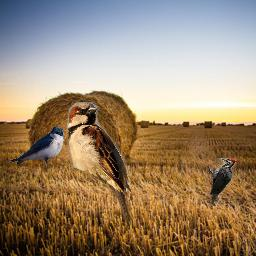Swallow: (66, 102, 131, 228), (9, 126, 64, 164)
Woodpecker: (207, 158, 237, 207)
